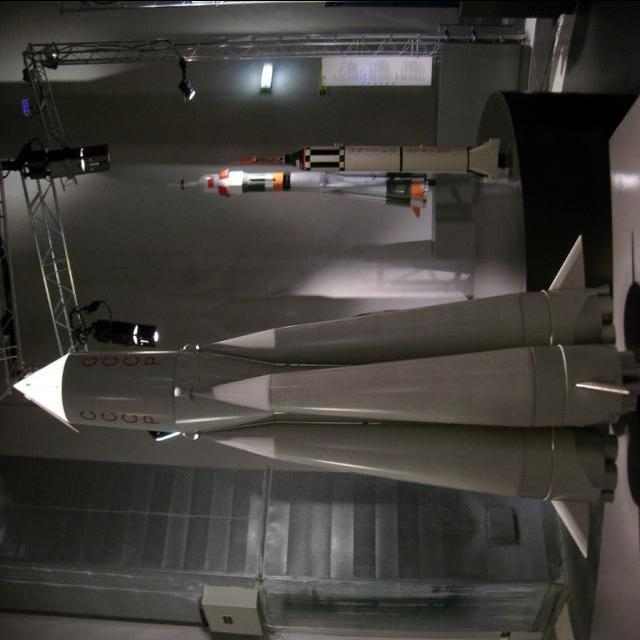missile: (10, 233, 640, 563), (163, 120, 506, 219)
